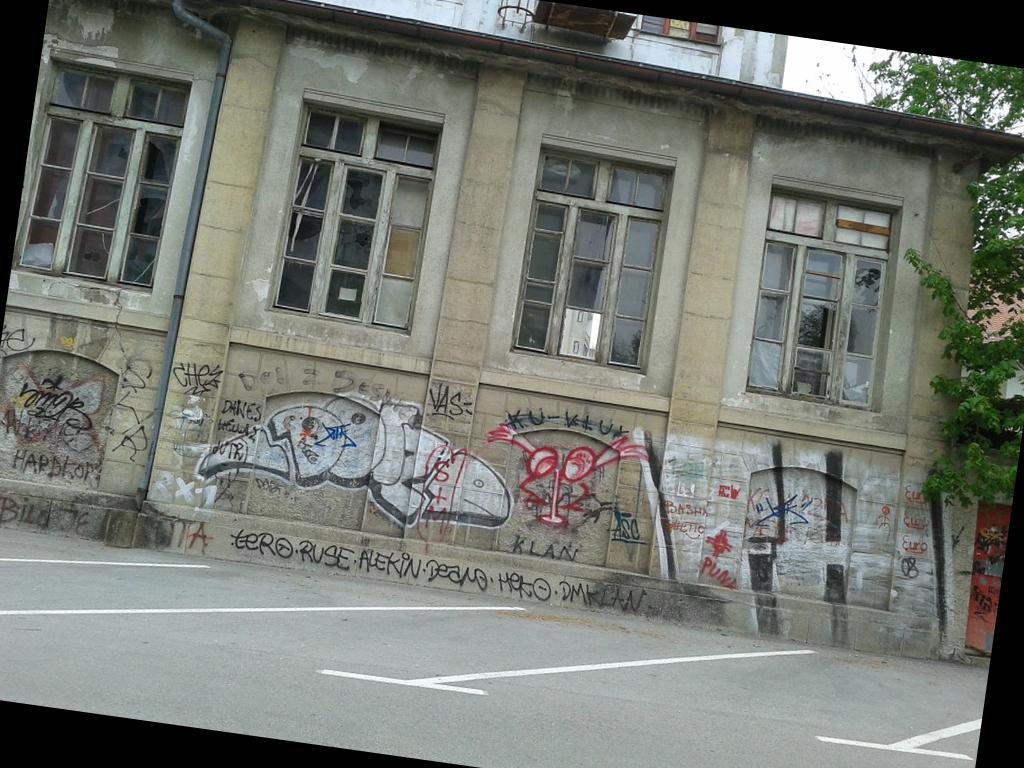graffiti: (198, 391, 510, 537), (212, 527, 659, 613), (485, 412, 627, 528), (0, 491, 211, 555), (0, 372, 103, 479), (152, 363, 223, 506), (632, 427, 678, 578), (965, 507, 1010, 653), (108, 358, 152, 462), (894, 481, 935, 584), (747, 494, 824, 538), (333, 366, 390, 412), (223, 371, 263, 433), (657, 493, 706, 540), (502, 534, 582, 561), (427, 379, 474, 420), (710, 480, 747, 518), (699, 556, 738, 588), (0, 324, 35, 359), (875, 504, 895, 551)
